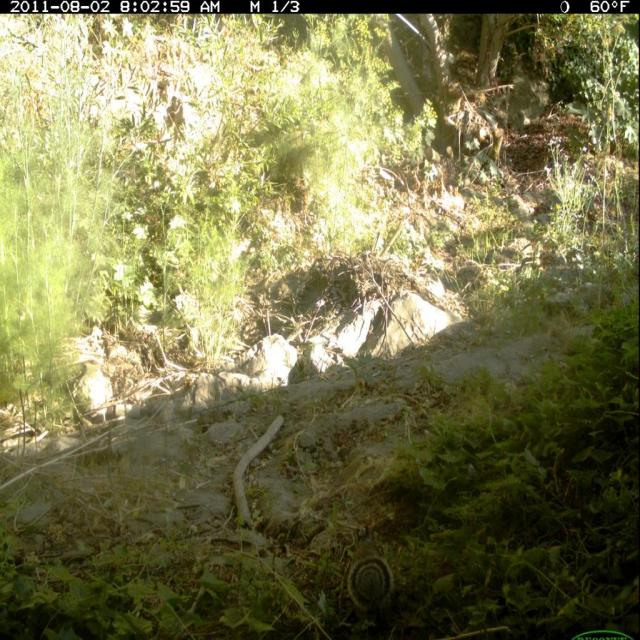squirrel: (343, 526, 402, 624)
